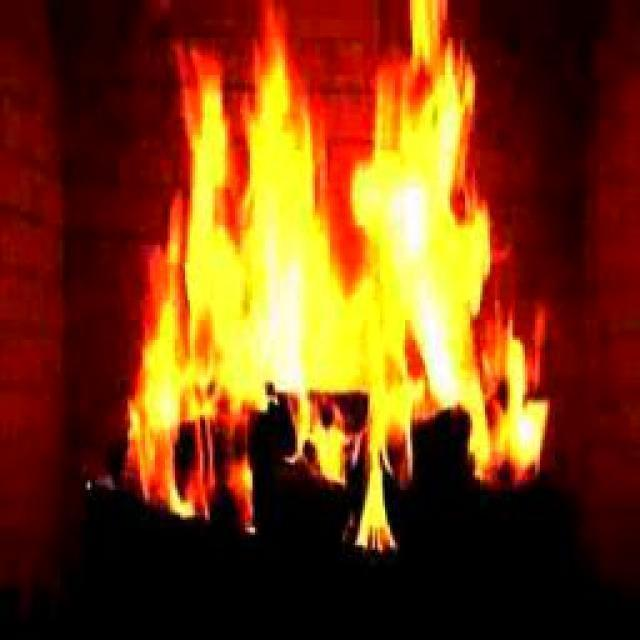Fire: (170, 30, 528, 478)
